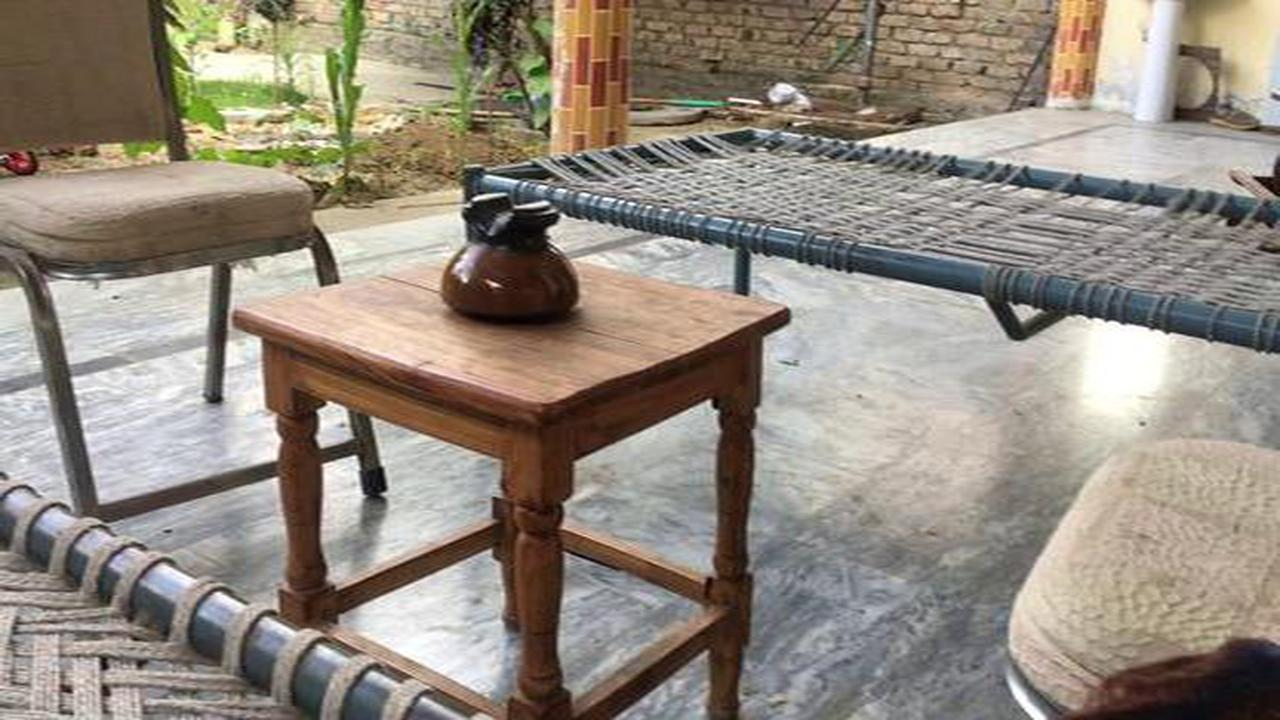insulator_pin: (404, 179, 622, 341)
